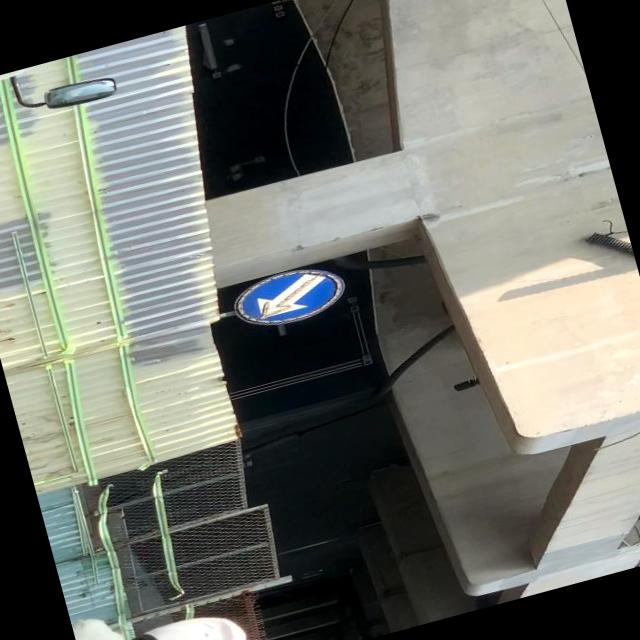R-302a: (228, 257, 352, 337)
